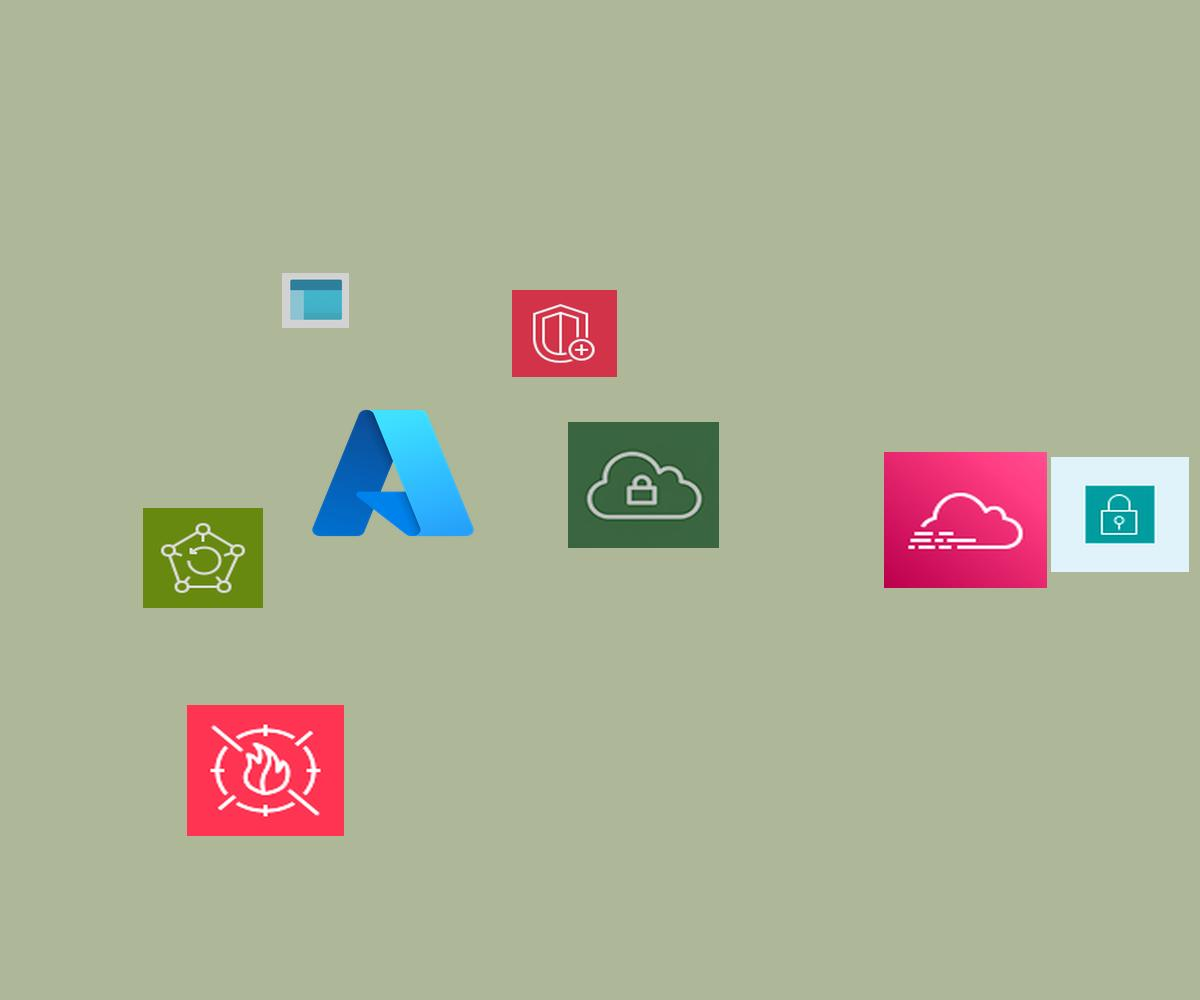AWS-Backup: (143, 508, 263, 608)
AWS-CloudTrail: (884, 452, 1047, 588)
AWS-Private-subnet: (1051, 457, 1189, 572)
AWS-Private_vpc: (568, 422, 719, 548)
AWS-Shield: (512, 290, 617, 377)
AWS-WAF: (187, 705, 344, 836)
Azure_management-portal: (282, 273, 349, 328)
Azure_services: (305, 400, 481, 546)
